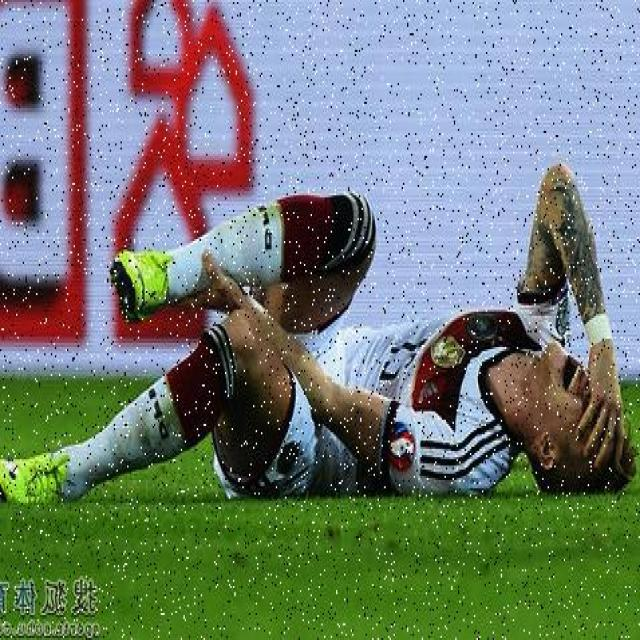fall: (15, 158, 622, 492)
